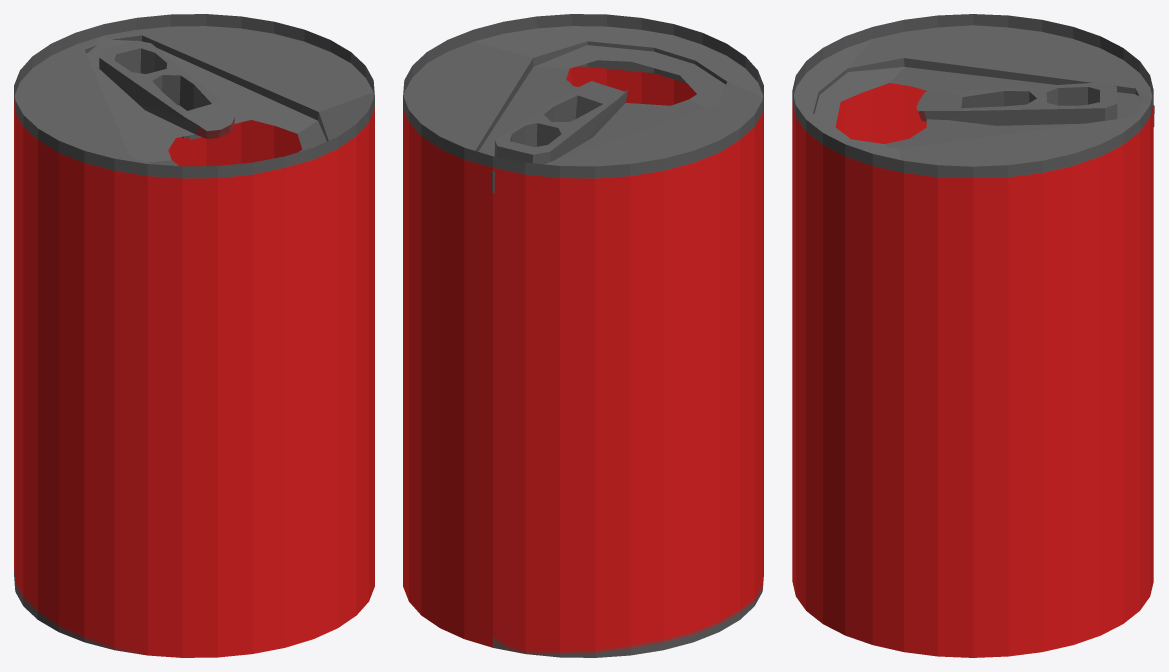
File: coke.glb
3 renders of one model, left to right at view 1: azimuth 30°, elevation 25°; view 2: azimuth 150°, elevation 25°; view 3: azimuth 270°, elevation 25°, orthographic.
Parts seen in each view (by area): view 1: Cylinder; view 2: Cylinder; view 3: Cylinder.
Boxes of the visible parts, x1=… form: Cylinder: x1=14, y1=14, x2=374, y2=657; Cylinder: x1=403, y1=14, x2=763, y2=657; Cylinder: x1=792, y1=14, x2=1154, y2=657.
Bounding box in the file's own units: 2 × 3 × 2.
1 material, 1 textured.
